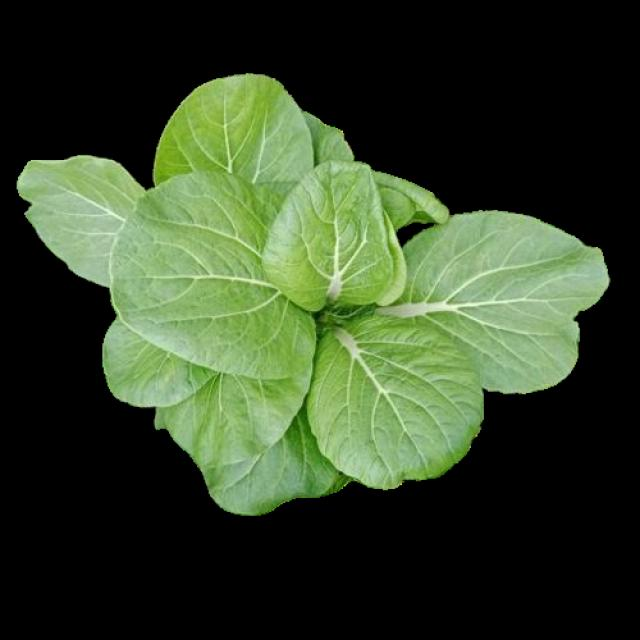healthy: (18, 72, 604, 510)
mature: (21, 74, 606, 514)
